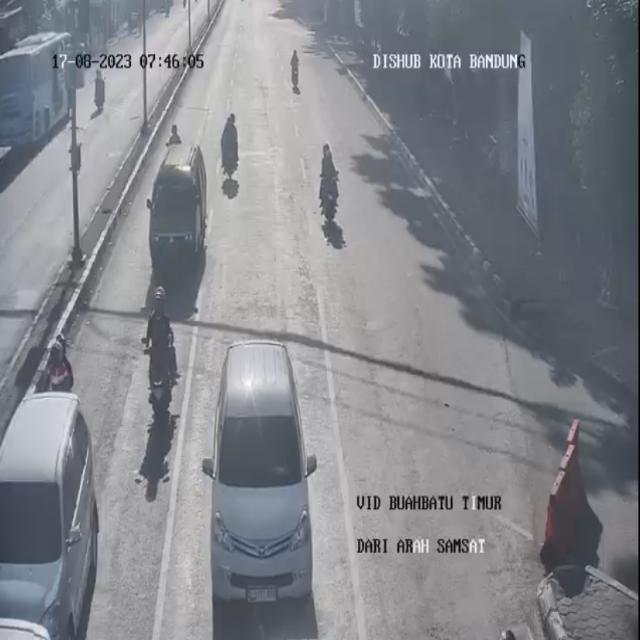cars: (210, 331, 310, 628), (0, 390, 102, 639), (147, 144, 211, 272), (0, 616, 68, 640)
motorcycle: (135, 279, 184, 452), (215, 115, 252, 209), (316, 143, 349, 244), (41, 326, 75, 393), (165, 115, 183, 156), (290, 50, 302, 98)
